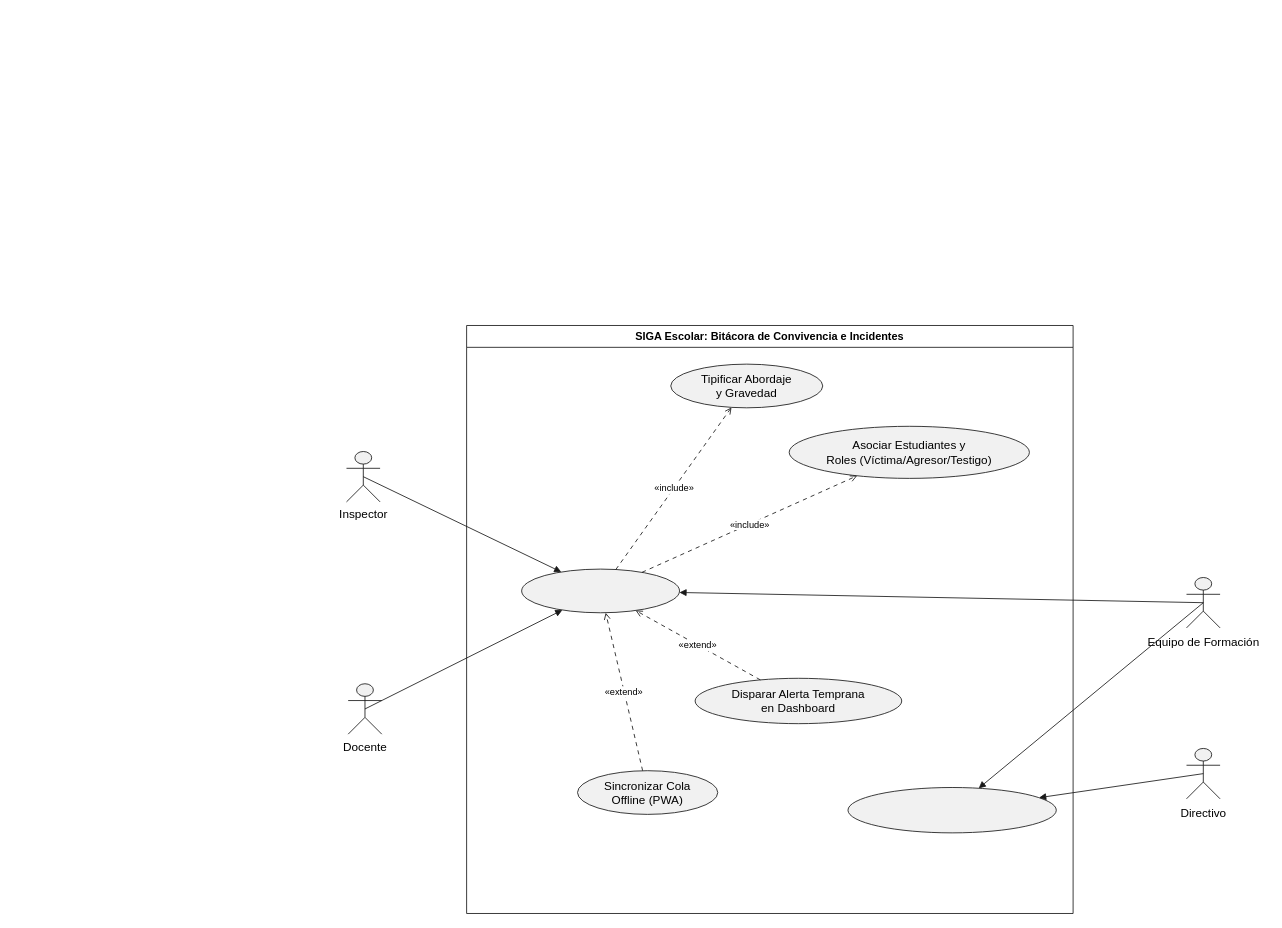
The diagram is 1282 pixels wide and 928 high, and some of its shapes have lost their labels. Here are the shapes that lost their labels. From the top down, the box of each, then its label:
(521, 568, 680, 613): Registrar Incidente Escolar
(847, 787, 1056, 833): Consultar Dashboard Analítico en Tiempo Real
